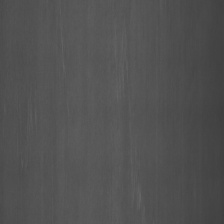silk_spot: (110, 20, 136, 108), (127, 145, 150, 212), (54, 22, 72, 78)
